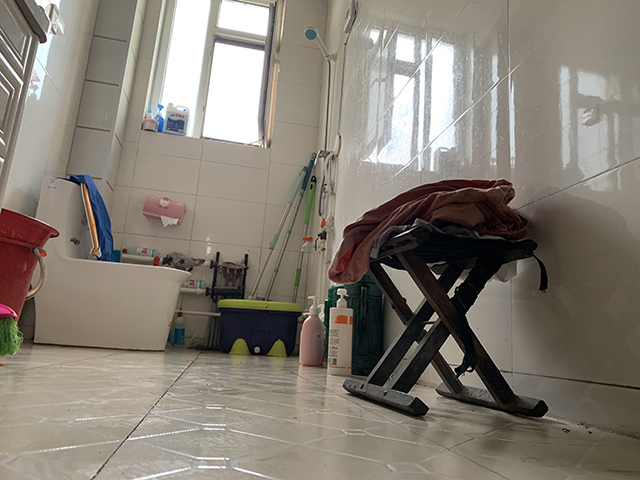closestool: (26, 174, 193, 352)
stool: (336, 224, 552, 419)
